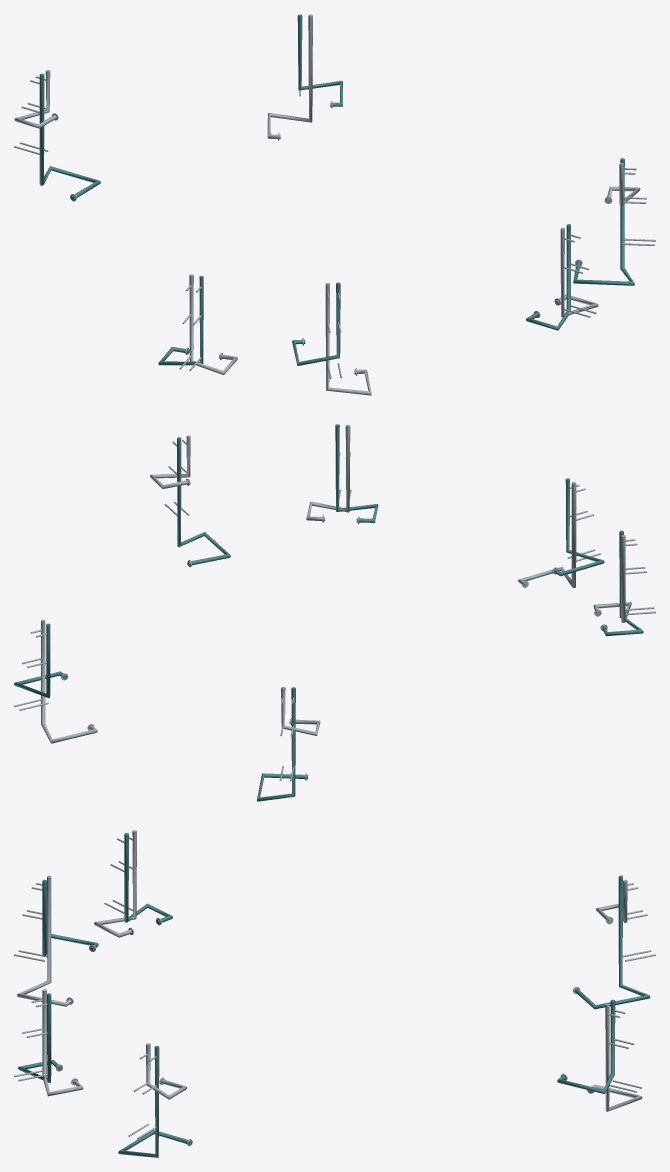
File: RD_C03_ProcessConnections.fbx
3 renders of one model, top to bottom at view 1: azimuth 30°, elevation 25°; view 2: azimuth 150°, elevation 25°; view 3: azimuth 270°, elevation 25°, orthographic.
Visible parts, largest first — view 1: RD_C03_ProcessConnections; view 2: RD_C03_ProcessConnections; view 3: RD_C03_ProcessConnections.
Part boxes in pixels (<box>): RD_C03_ProcessConnections: <box>14,14,655,395</box>; RD_C03_ProcessConnections: <box>14,424,655,801</box>; RD_C03_ProcessConnections: <box>14,830,655,1157</box>.
Bounding box in the file's own units: 1607 × 350 × 1812.
